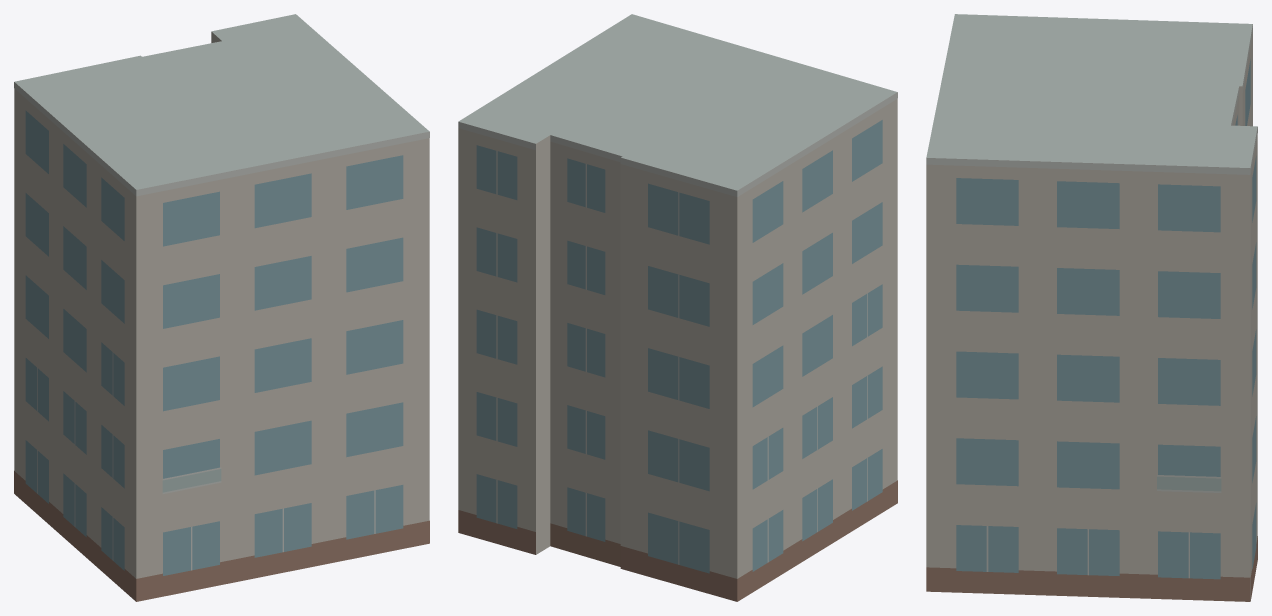
File: survey-upis-32729320.glb
3 renders of one model, left to right at view 1: azimuth 30°, elevation 25°; view 2: azimuth 150°, elevation 25°; view 3: azimuth 270°, elevation 25°, orthographic. The views are drawn at different scales.
Parts seen in each view (by area): view 1: survey-upis-32729320.tmp; view 2: survey-upis-32729320.tmp; view 3: survey-upis-32729320.tmp.
Boxes of the visible parts, x1,y1,x2,y2 form: survey-upis-32729320.tmp: (14, 14, 429, 601); survey-upis-32729320.tmp: (458, 14, 897, 601); survey-upis-32729320.tmp: (926, 14, 1257, 601).
Size of the model in its own units: 11.9 by 15.6 by 10.81.
